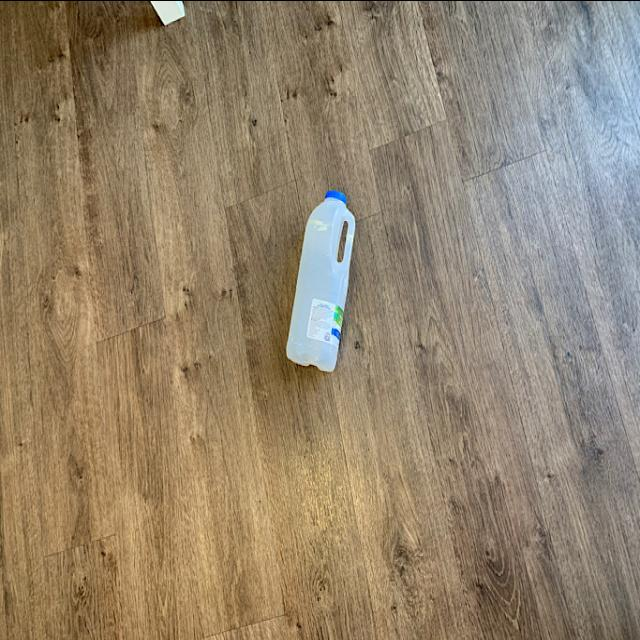HDPEM: (284, 184, 362, 378)
